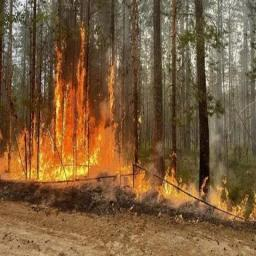Small fire: (0, 41, 255, 227)
